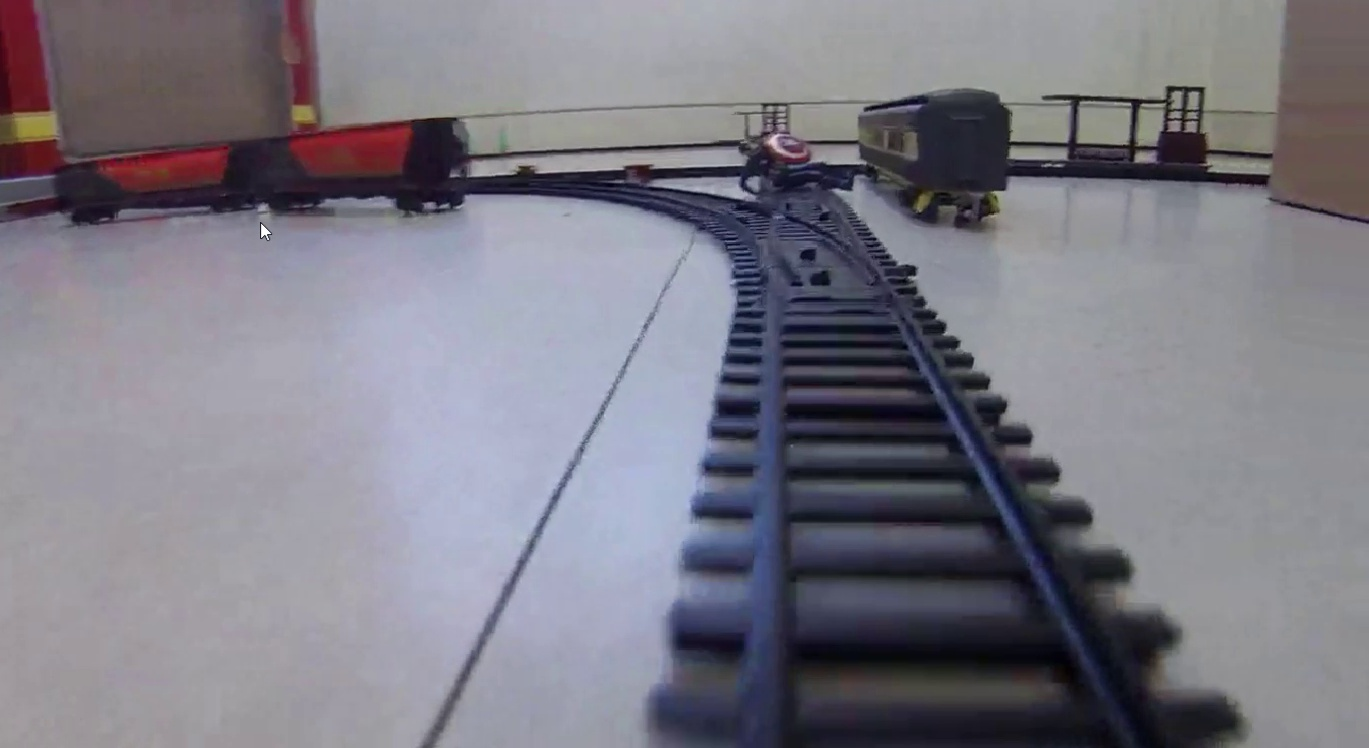people: (738, 129, 876, 195)
